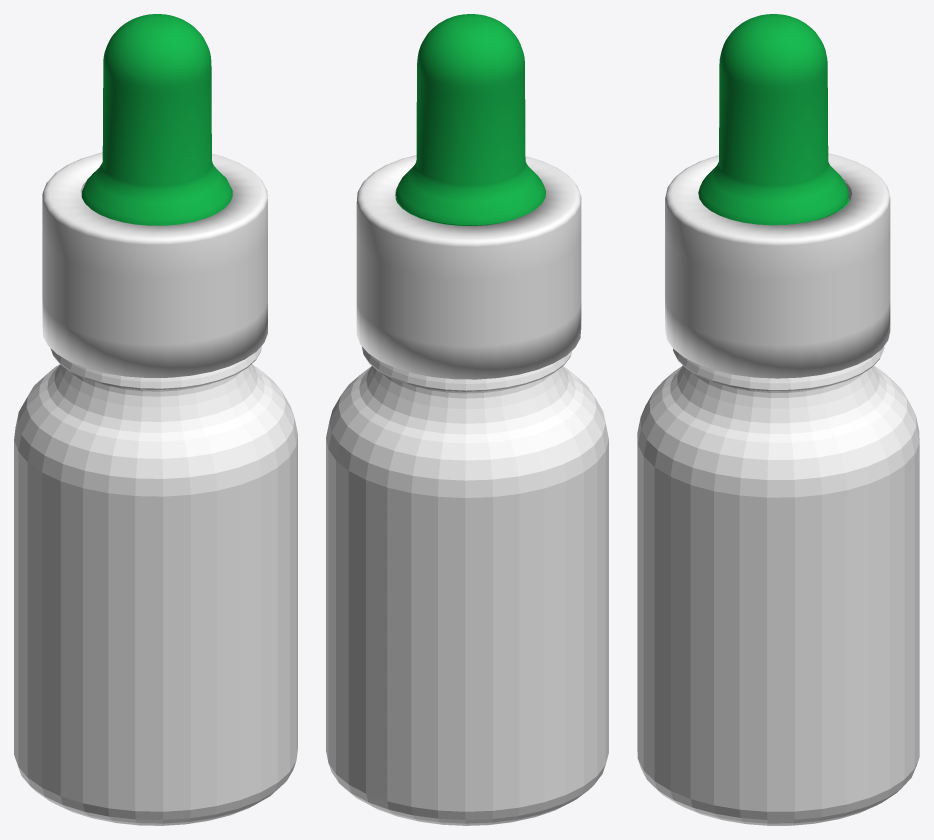
3 renders of one model, left to right at view 1: azimuth 30°, elevation 25°; view 2: azimuth 150°, elevation 25°; view 3: azimuth 270°, elevation 25°, orthographic.
Visible parts, largest first — view 1: Cylinder.001, Cylinder.004, bottom.004; view 2: Cylinder.001, Cylinder.004, bottom.004; view 3: Cylinder.001, Cylinder.004, bottom.004.
Part boxes in pixels (x1,y1,x2,y2): Cylinder.001: (14, 346, 297, 825); Cylinder.004: (42, 152, 267, 377); bottom.004: (82, 14, 232, 225); Cylinder.001: (326, 346, 608, 825); Cylinder.004: (356, 155, 581, 379); bottom.004: (395, 14, 545, 225); Cylinder.001: (637, 199, 919, 825); Cylinder.004: (665, 153, 890, 378); bottom.004: (698, 14, 849, 225).
Bounding box in the file's own units: 0.5746 × 1.7 × 0.5747.
